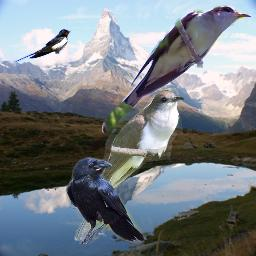Crow: (66, 157, 147, 244)
Cuckoo: (102, 5, 251, 133), (73, 90, 184, 242)
Swallow: (13, 29, 71, 63)
